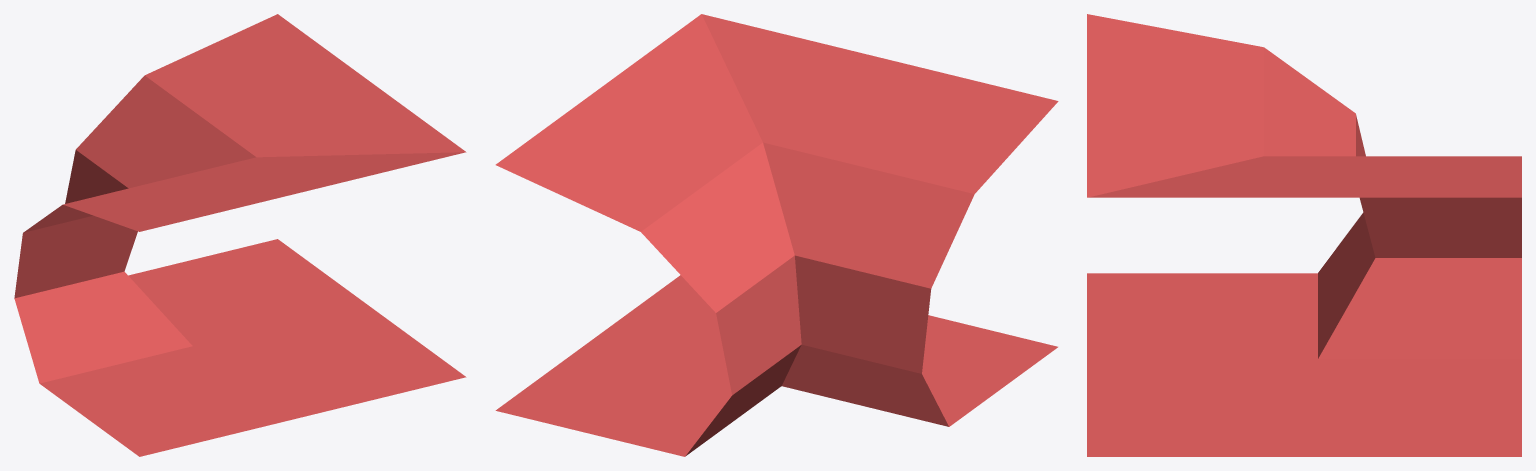
The model's file is mesh_hallway_corner_COLLISION.fbx.
3 renders of one model, left to right at view 1: azimuth 30°, elevation 25°; view 2: azimuth 150°, elevation 25°; view 3: azimuth 270°, elevation 25°, orthographic. The views are drawn at different scales.
Visible parts, largest first — view 1: mesh_hallway_corner_COLLISION; view 2: mesh_hallway_corner_COLLISION; view 3: mesh_hallway_corner_COLLISION.
Boxes of the visible parts, left/top/right/bottom form: mesh_hallway_corner_COLLISION: left=14, top=14, right=466, bottom=456; mesh_hallway_corner_COLLISION: left=495, top=14, right=1058, bottom=456; mesh_hallway_corner_COLLISION: left=1087, top=14, right=1521, bottom=456.
Bounding box in the file's own units: 14 × 9.2 × 14.
